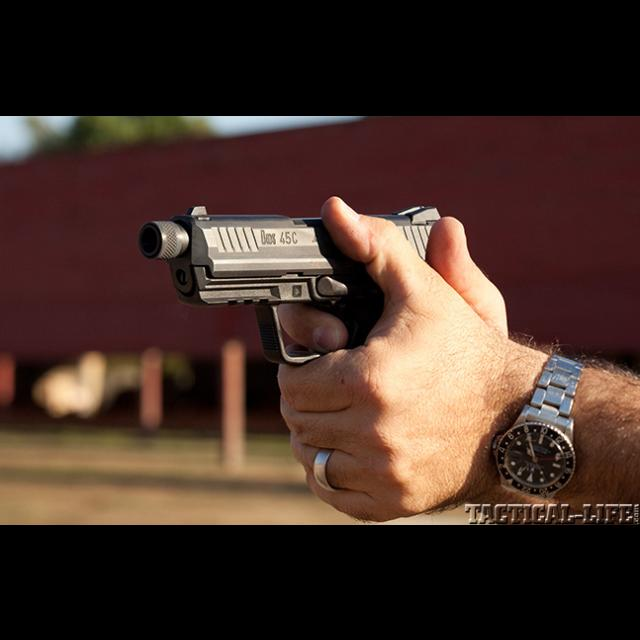handgun: (132, 200, 446, 368)
